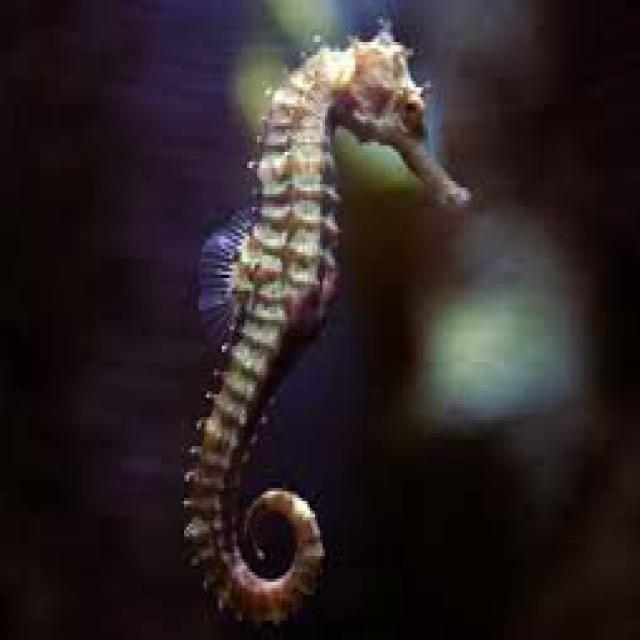seahorse: (184, 19, 466, 621)
